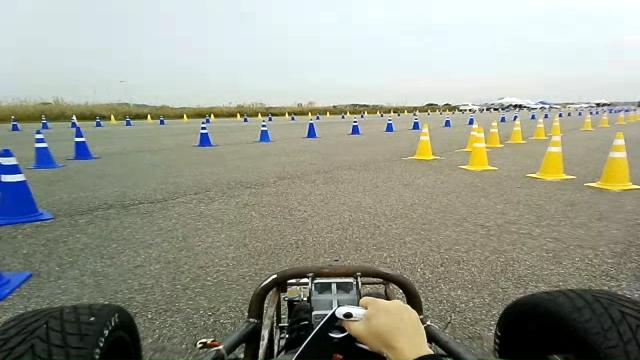blue cone: (0, 148, 54, 225), (25, 129, 64, 169), (66, 126, 100, 160), (192, 125, 218, 147), (255, 120, 273, 142), (304, 120, 320, 138), (347, 117, 362, 135), (9, 116, 20, 131), (39, 115, 50, 130), (384, 121, 396, 132), (69, 114, 78, 128), (442, 115, 452, 127), (410, 119, 420, 130), (94, 116, 103, 127), (466, 113, 474, 125), (124, 115, 132, 126), (158, 114, 166, 125), (499, 114, 507, 122), (530, 114, 536, 120)
yellow cone: (584, 131, 639, 191), (525, 134, 576, 180), (406, 123, 441, 160), (458, 141, 498, 171), (457, 121, 485, 152), (505, 118, 527, 144), (485, 120, 504, 148), (528, 118, 548, 140), (456, 131, 477, 151), (549, 117, 563, 136), (579, 115, 594, 130), (614, 111, 626, 124), (598, 115, 610, 127), (109, 114, 117, 124), (146, 113, 152, 122), (209, 112, 215, 121), (182, 113, 188, 121), (235, 112, 241, 120)
